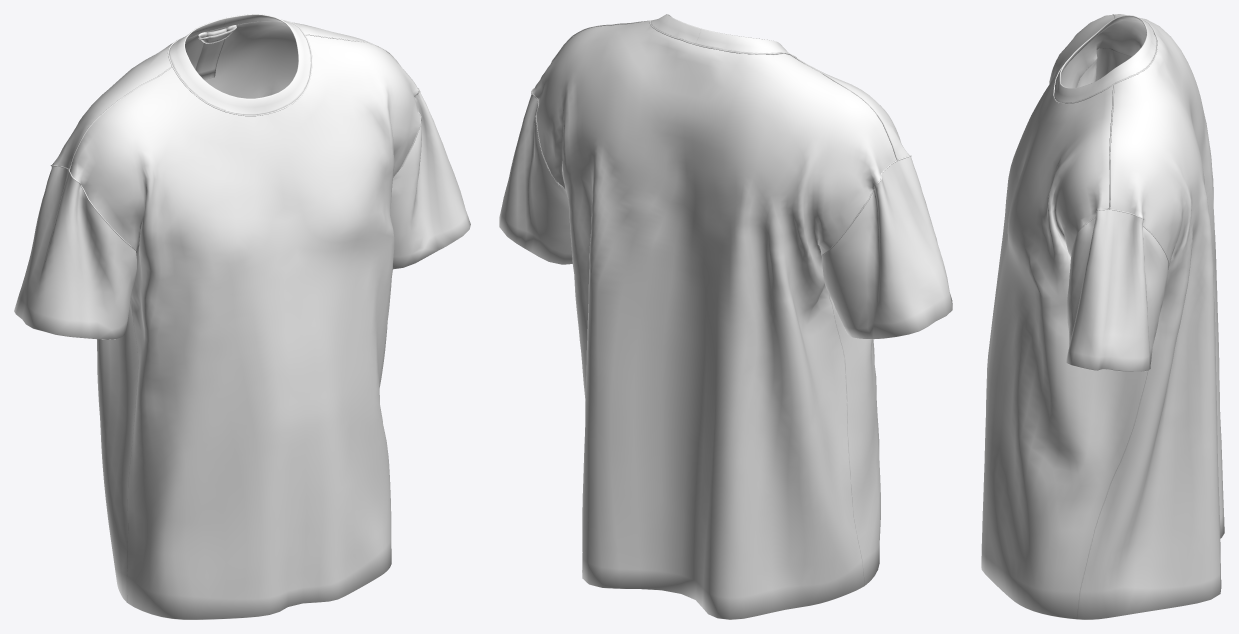
The model's file is tshirt.gltf.
3 renders of one model, left to right at view 1: azimuth 30°, elevation 25°; view 2: azimuth 150°, elevation 25°; view 3: azimuth 270°, elevation 25°, orthographic. The views are drawn at different scales.
Visible parts, largest first — view 1: Body, R_Sleeve, L_Sleeve, Collar, Stitch, Label; view 2: Body, R_Sleeve, L_Sleeve, Collar, Stitch; view 3: Body, L_Sleeve, Collar, R_Sleeve, Stitch.
Boxes of the visible parts, x1,y1,x2,y2 form: Body: (52, 21, 420, 619); R_Sleeve: (14, 166, 136, 339); L_Sleeve: (390, 92, 470, 269); Collar: (169, 14, 311, 115); Stitch: (50, 19, 421, 252); Label: (195, 28, 227, 79); Body: (532, 21, 909, 619); R_Sleeve: (822, 156, 952, 339); L_Sleeve: (499, 93, 572, 264); Collar: (650, 14, 789, 53); Stitch: (531, 20, 911, 256); Body: (981, 14, 1224, 619); L_Sleeve: (1066, 210, 1168, 371); Collar: (1054, 15, 1156, 103); R_Sleeve: (1076, 48, 1131, 87); Stitch: (1053, 14, 1168, 269).
Bounding box in the file's own units: 0.6318 × 0.7424 × 0.3104.
Materials: 7 (7 with a texture image).
